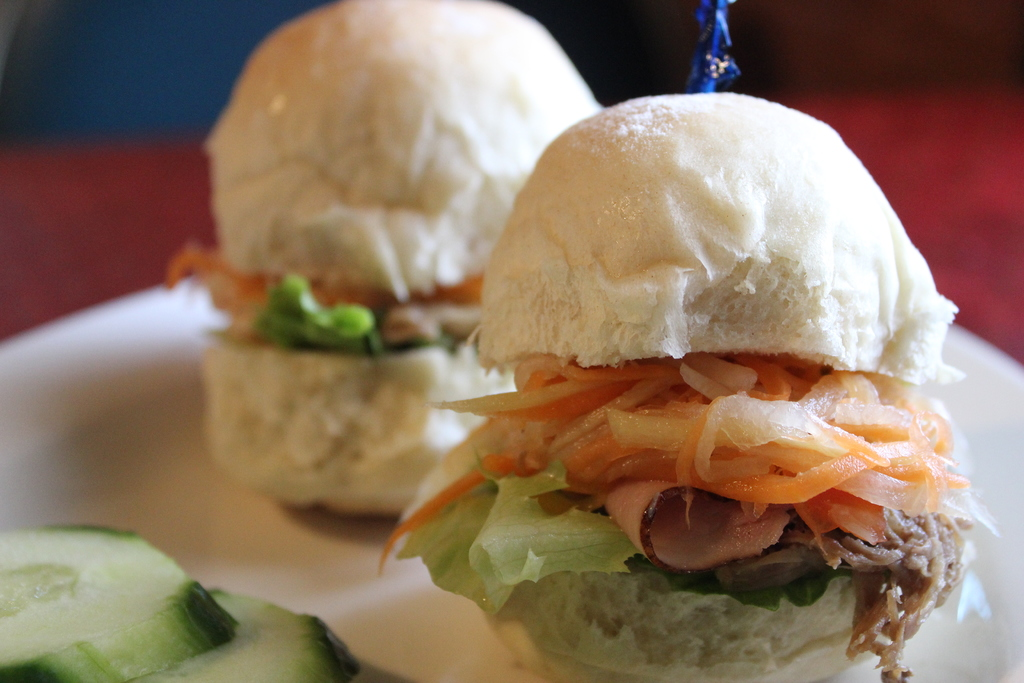Hamburger: (378, 92, 997, 682), (162, 0, 603, 519)
